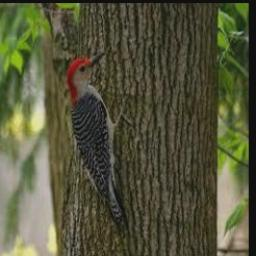Woodpecker: (67, 50, 132, 225)
